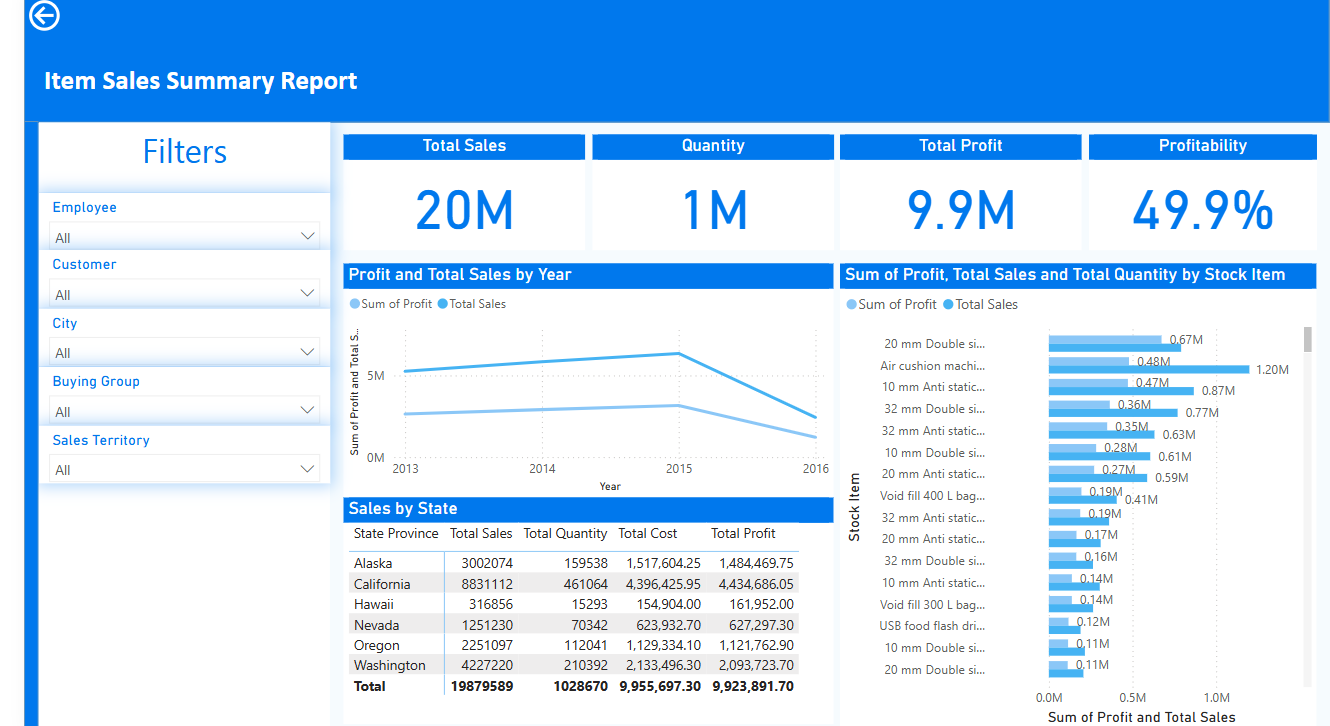

What the dashboard file says about the page in this screenshot:
{"tool":"powerbi","page":{"name":"Profit","canvas":[1280,720],"ordinal":19},"visuals":[{"type":"shape","box":[0,0,1280,125],"z":0},{"type":"shape","box":[0,124.1,14.3,596.5],"z":1000},{"type":"shape","box":[15,125,285,595],"z":2000},{"type":"textbox","box":[14.3,62,380.2,44.5],"z":3000},{"type":"card","title":"Total Sales","fields":{"Values":["Sum(FactSale.Total Excluding Tax)"]},"box":[313.3,136.7,236.7,113.3],"z":4000},{"type":"card","title":"Quantity","fields":{"Values":["Sum(FactSale.Quantity)"]},"box":[556.7,136.7,236.7,113.3],"z":5000},{"type":"card","title":"Total Profit","fields":{"Values":["Sum(FactSale.Profit)"]},"box":[800,136.7,236.7,113.3],"z":6000},{"type":"card","title":"Profitability","fields":{"Values":["FactSale.Profitability"]},"box":[1043.3,136.7,223.3,113.3],"z":7000},{"type":"actionButton","box":[0,0,100,40],"z":8000},{"type":"textbox","box":[15,125,285,68.3],"z":9000},{"type":"lineChart","title":"Profit and Total Sales by Year","fields":{"Category":["DimDate.Date.Variation.Date Hierarchy.Year","DimDate.Date.Variation.Date Hierarchy.Quarter","DimDate.Date.Variation.Date Hierarchy.Month","DimDate.Date.Variation.Date Hierarchy.Day"],"Y":["Sum(FactSale.Profit)","Sum(FactSale.Total Excluding Tax)"]},"box":[313.3,263.3,480,228.3],"z":10000},{"type":"clusteredBarChart","fields":{"Category":["DimStockItem.Stock Item"],"Y":["Sum(FactSale.Profit)","Sum(FactSale.Total Excluding Tax)"]},"box":[800,263.3,466.7,456.7],"z":11000},{"type":"pivotTable","title":"Sales by State ","fields":{"Values":["Sum(FactSale.Total Excluding Tax)","Sum(FactSale.Quantity)","Sum(FactSale.Cost)","Sum(FactSale.Profit)"],"Rows":["DimCity.State Province"]},"box":[313.3,491.7,480,221.7],"z":12000},{"type":"slicer","fields":{"Values":["DimEmployee.Employee"]},"box":[14.5,193.5,285.5,56.5],"z":13000},{"type":"slicer","fields":{"Values":["DimCustomer.Customer"]},"box":[15,250,285,56.7],"z":14000},{"type":"slicer","fields":{"Values":["DimCity.City"]},"box":[15,306.7,285,56.7],"z":15000},{"type":"slicer","fields":{"Values":["DimCustomer.Buying Group"]},"box":[15,365,285,56.7],"z":16000},{"type":"slicer","fields":{"Values":["DimCity.Sales Territory"]},"box":[15,421.7,285,56.7],"z":17000}]}

Visuals, with their boxes on the page's 1280x720 design canvas (x1, y1, x2, y2). These are canvas units, not pixel positions in the 1330x726 screenshot, which may show the page scaled, cropped or inside an application window:
shape: bbox=(0, 0, 1280, 125)
shape: bbox=(0, 124, 14, 721)
shape: bbox=(15, 125, 300, 720)
textbox: bbox=(14, 62, 394, 106)
"Total Sales" card: bbox=(313, 137, 550, 250)
"Quantity" card: bbox=(557, 137, 793, 250)
"Total Profit" card: bbox=(800, 137, 1037, 250)
"Profitability" card: bbox=(1043, 137, 1267, 250)
actionButton: bbox=(0, 0, 100, 40)
textbox: bbox=(15, 125, 300, 193)
"Profit and Total Sales by Year" lineChart: bbox=(313, 263, 793, 492)
clusteredBarChart - DimStockItem.Stock Item x Sum(FactSale.Profit): bbox=(800, 263, 1267, 720)
"Sales by State " pivotTable: bbox=(313, 492, 793, 713)
slicer - DimEmployee.Employee: bbox=(14, 194, 300, 250)
slicer - DimCustomer.Customer: bbox=(15, 250, 300, 307)
slicer - DimCity.City: bbox=(15, 307, 300, 363)
slicer - DimCustomer.Buying Group: bbox=(15, 365, 300, 422)
slicer - DimCity.Sales Territory: bbox=(15, 422, 300, 478)
